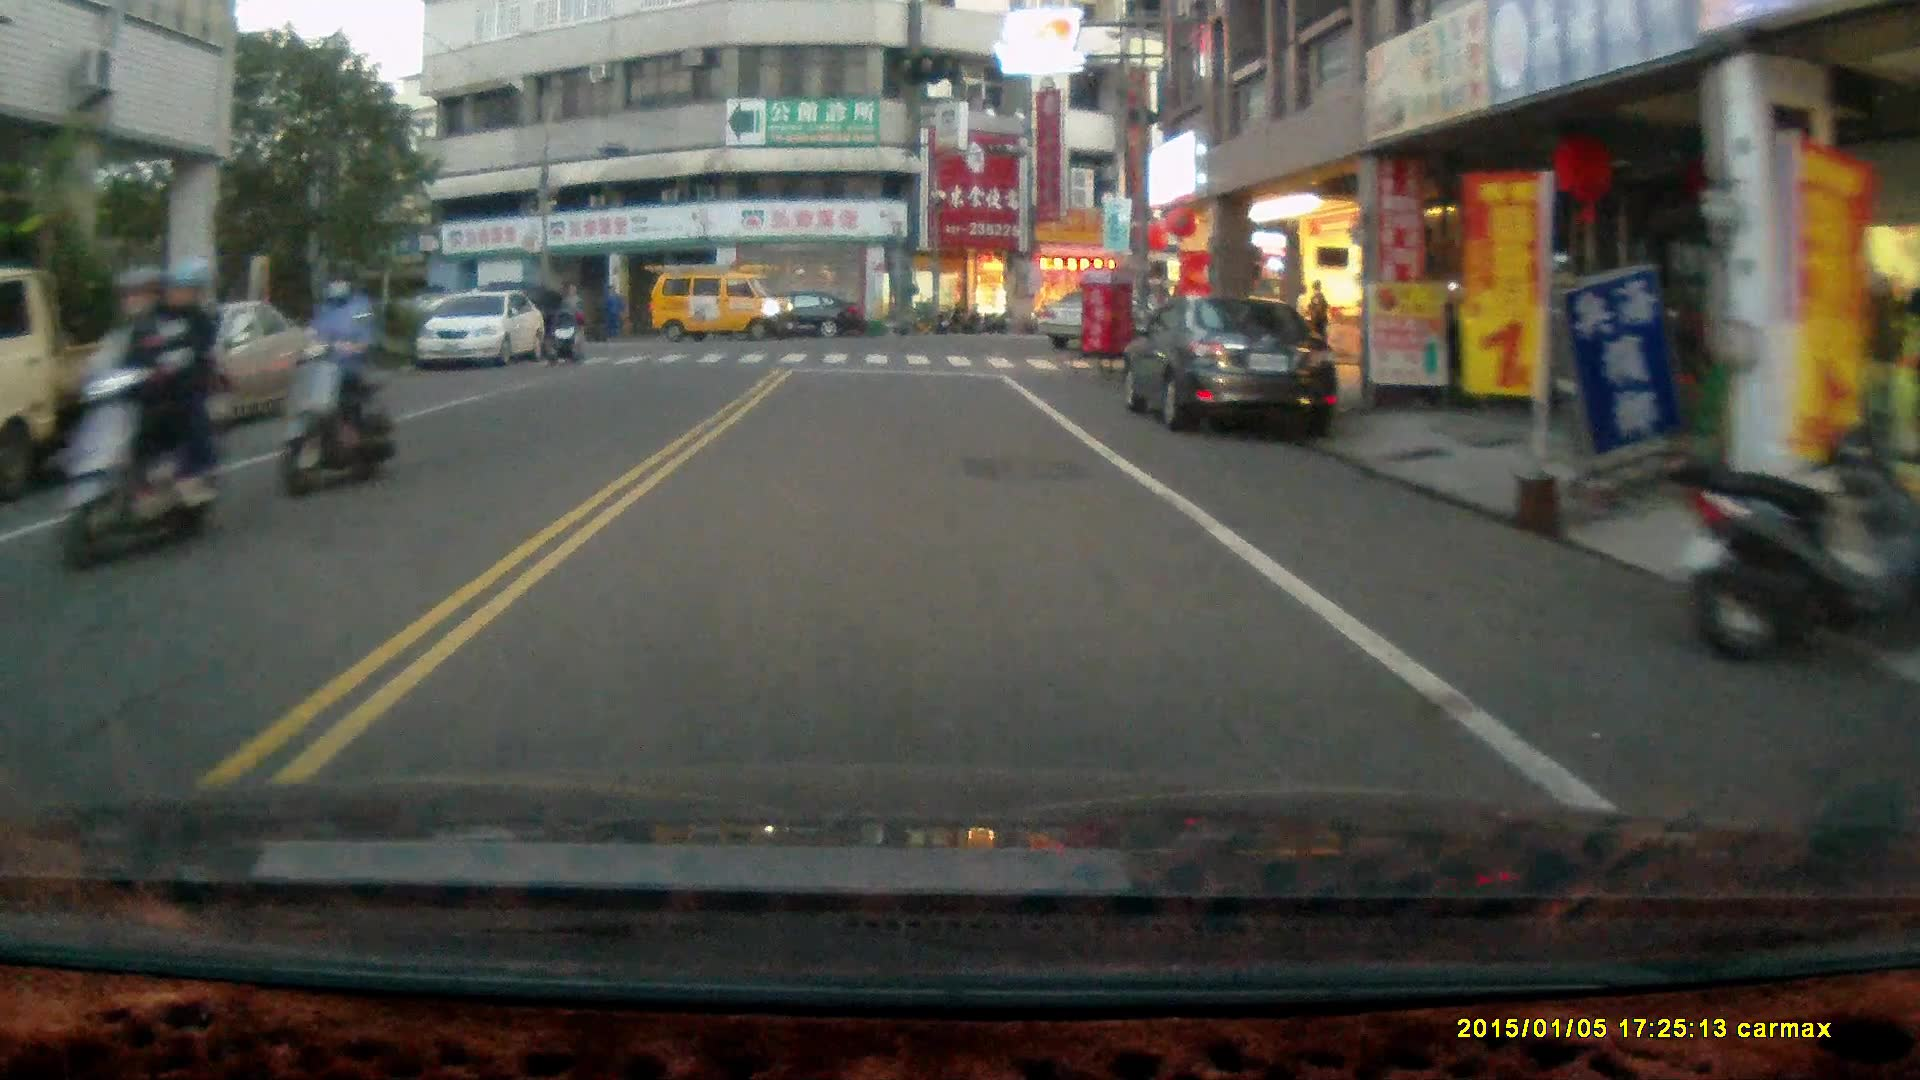pedestrian: (1307, 278, 1332, 365)
rider: (55, 253, 223, 573), (279, 252, 400, 500), (542, 305, 587, 367)
vehicle: (1, 265, 237, 487), (1121, 292, 1351, 447), (143, 297, 327, 427), (650, 259, 795, 344), (416, 288, 545, 370), (741, 287, 868, 339)
